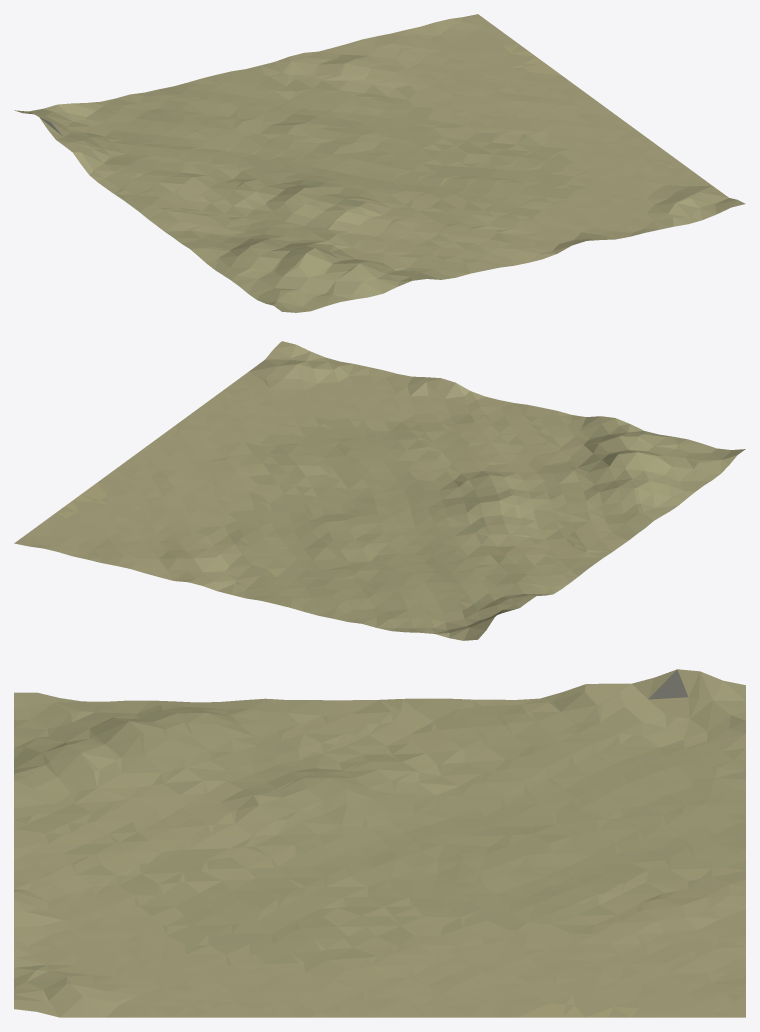
Rendered from Ground_-4_-7.glb.
3 views of the same model, one above another, from view 1: azimuth 30°, elevation 25°; view 2: azimuth 150°, elevation 25°; view 3: azimuth 270°, elevation 25° (orthographic). The views are drawn at different scales.
Parts seen in each view (by area): view 1: Ground_-4_-7; view 2: Ground_-4_-7; view 3: Ground_-4_-7.
Boxes of the visible parts, x1,y1,x2,y2 form: Ground_-4_-7: [14, 14, 745, 312]; Ground_-4_-7: [14, 341, 745, 640]; Ground_-4_-7: [14, 669, 745, 1017].
Size of the model in its own units: 768 by 45.25 by 768.
